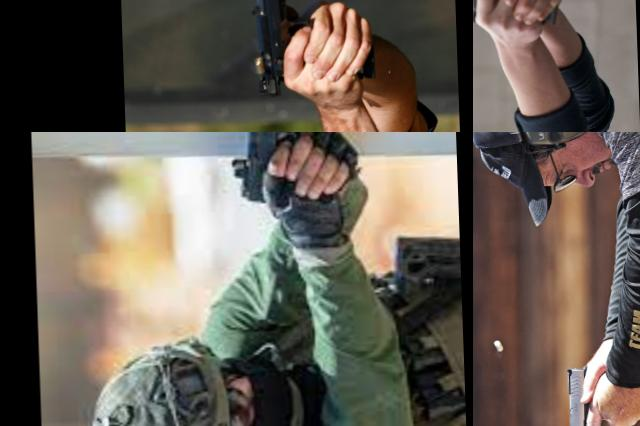handgun: (246, 0, 379, 101), (227, 132, 366, 209), (473, 0, 563, 43), (562, 360, 620, 426)
